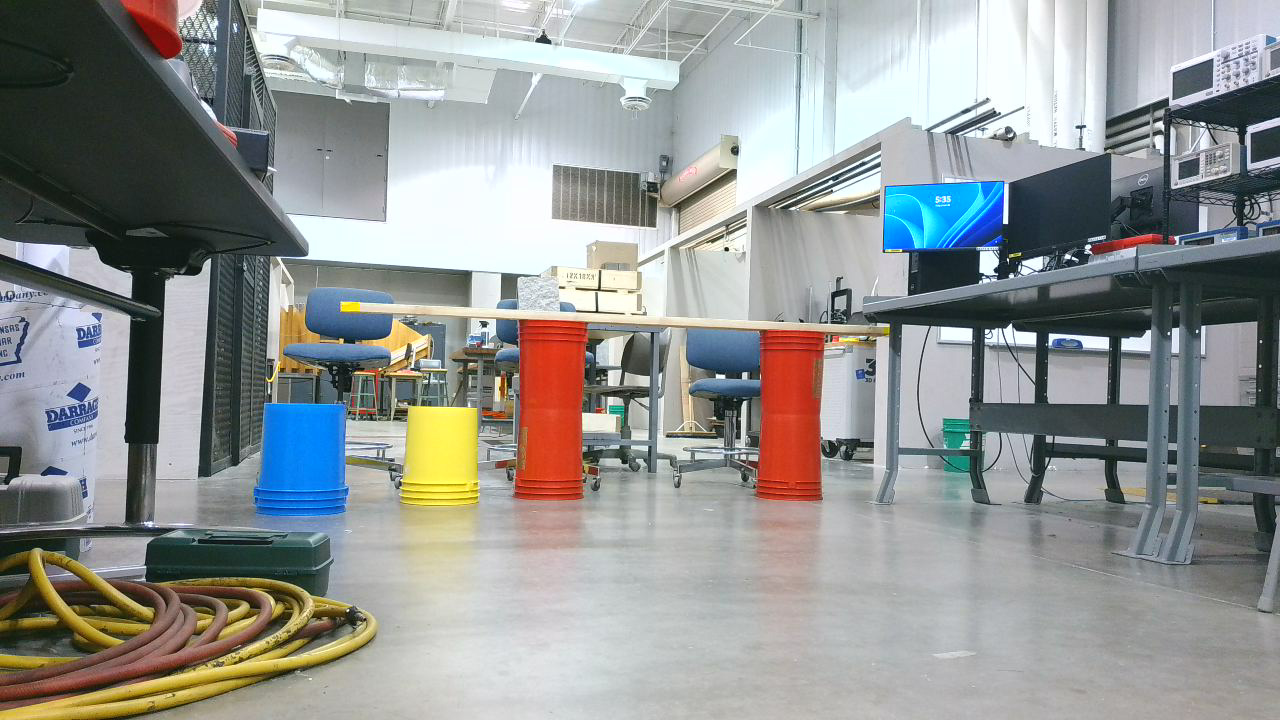blue_bucket: (254, 402, 358, 525)
red_bucket_arch: (514, 317, 836, 512)
yellow_bucket: (400, 405, 490, 515)
